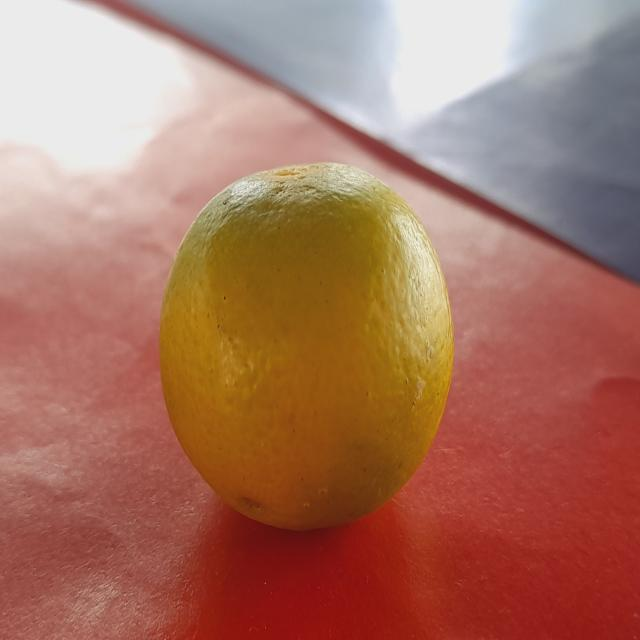greening: (144, 158, 451, 514)
